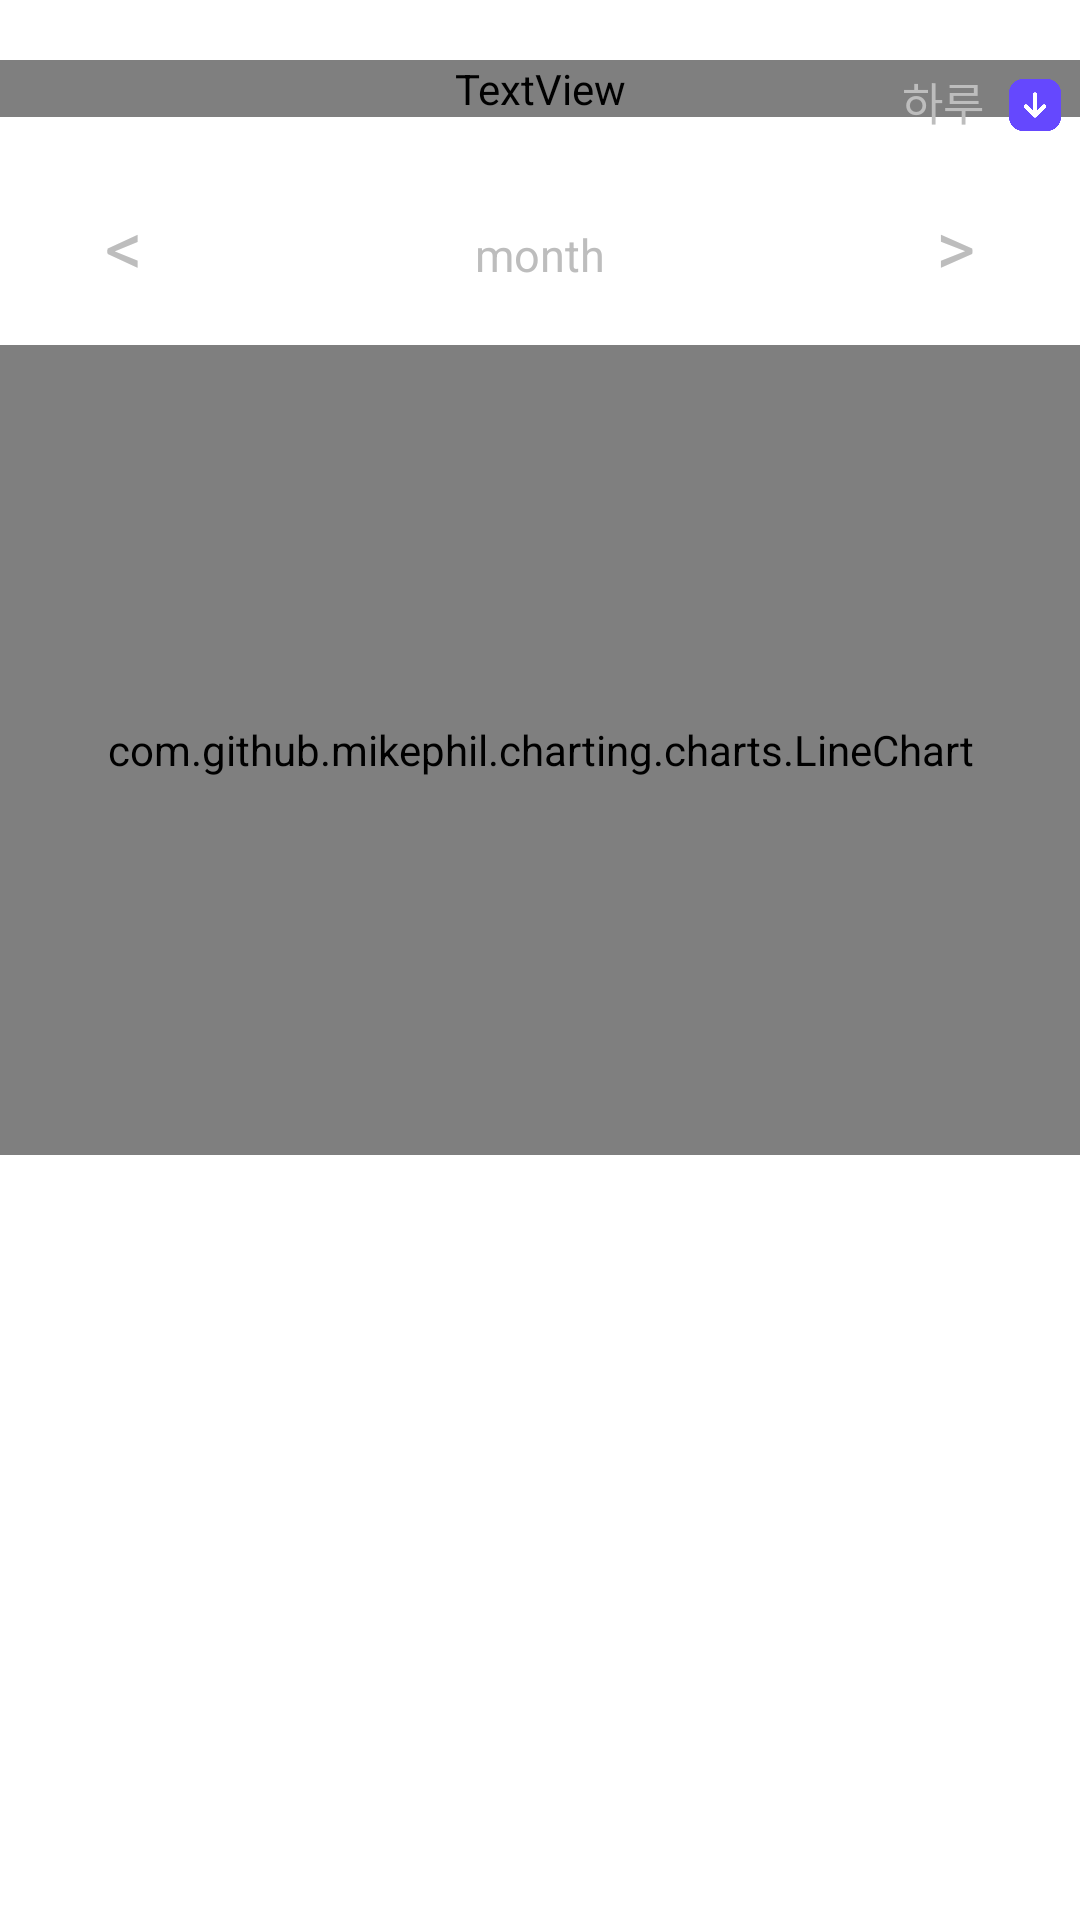

Point at icon controls on the screen. Image size 1080x1920, points as [x,y].
downbtn: [1035,95]
